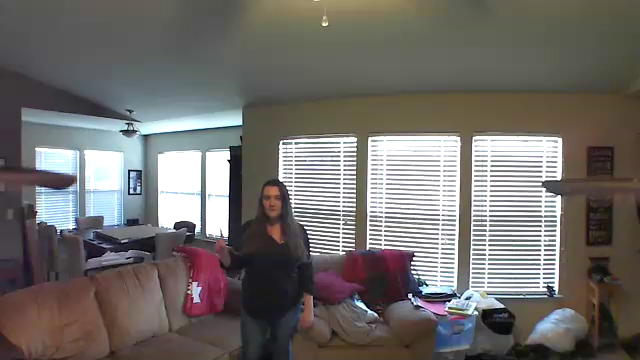up: (211, 227, 228, 257)
